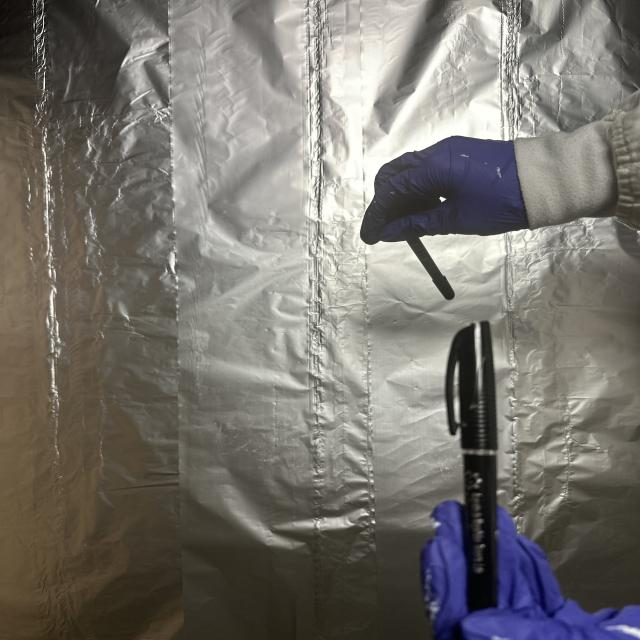gloves_contaminated: (422, 503, 640, 640), (361, 136, 533, 245)
